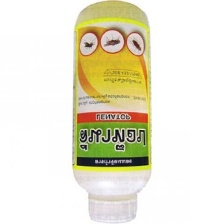insecticide: (68, 0, 155, 224)
